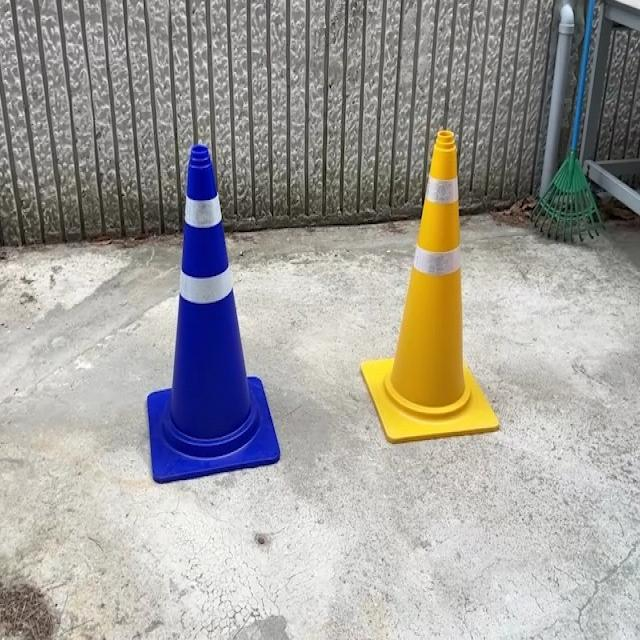b_rub: (147, 144, 280, 483)
y_rub: (361, 129, 500, 443)
